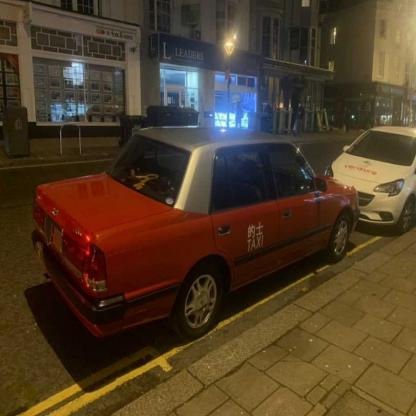taxi: (31, 120, 362, 346)
